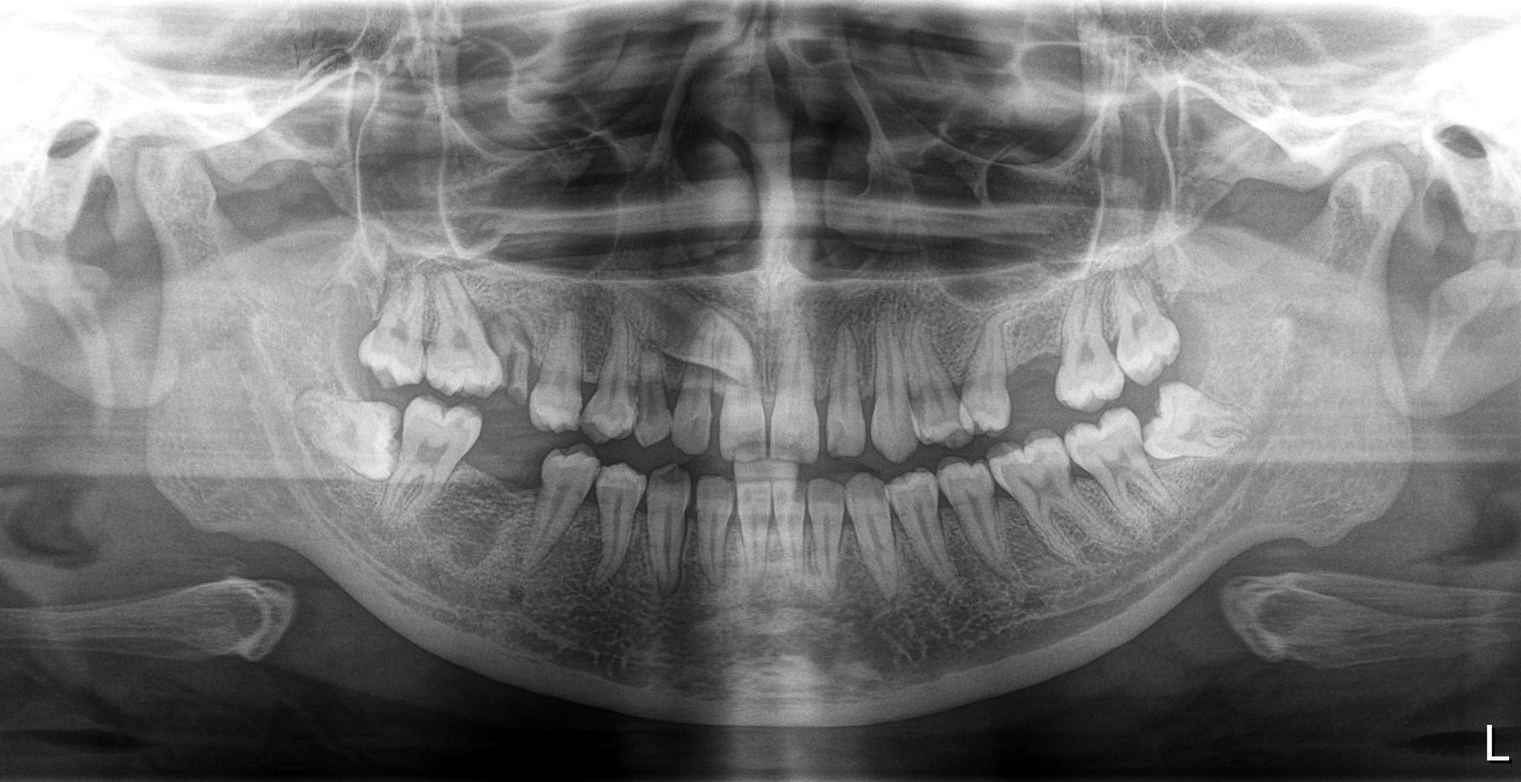Impacted Third Molar: (1151, 381, 1262, 462), (290, 405, 393, 476)
Missing Tooth: (461, 420, 544, 543), (319, 271, 378, 369), (1006, 316, 1060, 412)
Retained Root: (492, 316, 535, 406)
